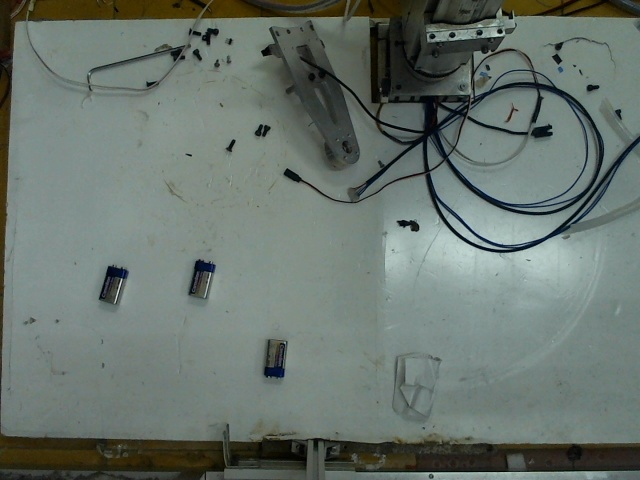battery: (254, 333, 294, 379), (185, 255, 220, 302), (96, 257, 127, 310)
